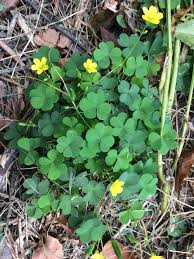clover: (78, 91, 112, 121), (38, 149, 69, 181), (29, 82, 60, 112), (148, 124, 178, 155), (85, 122, 115, 152), (56, 129, 85, 158), (93, 41, 122, 69), (109, 112, 135, 140), (105, 146, 132, 172), (123, 54, 149, 78), (118, 79, 139, 104)
yellow wood sorrel: (141, 4, 164, 26), (30, 57, 49, 76), (109, 178, 125, 198), (83, 58, 97, 75)
